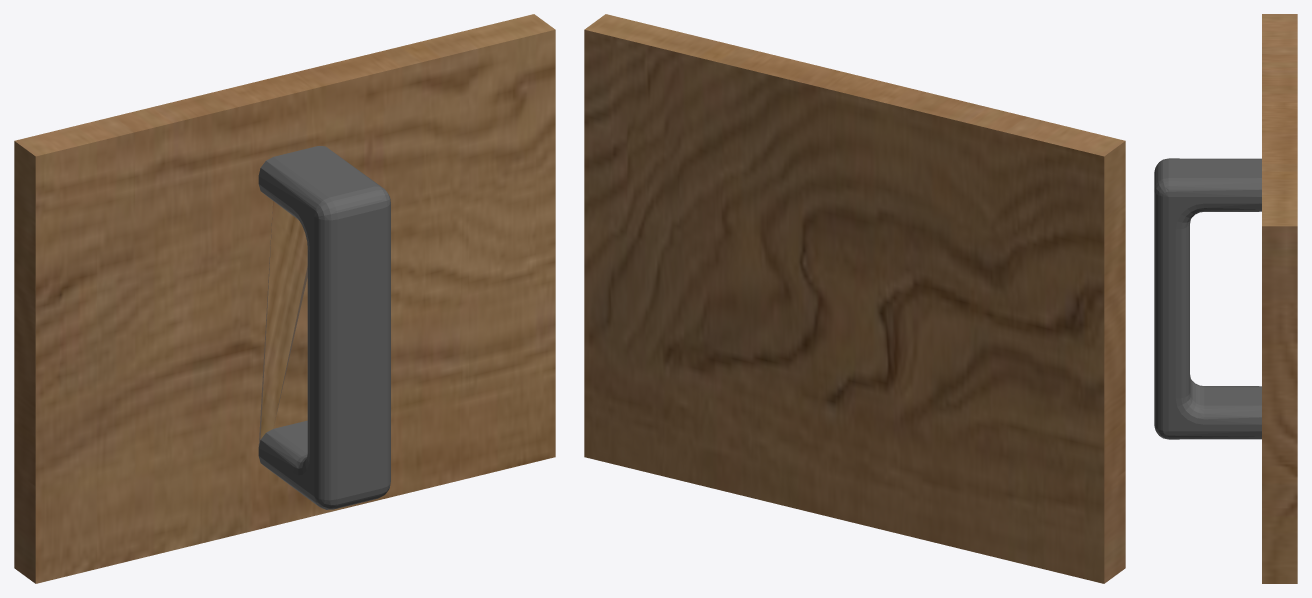
The model's file is slide_link.obj.
The picture shows the model from 3 angles, left to right: view 1: azimuth 30°, elevation 25°; view 2: azimuth 150°, elevation 25°; view 3: azimuth 270°, elevation 25°; orthographic projection. The views are drawn at different scales.
Parts seen in each view (by area): view 1: slide_link; view 2: slide_link; view 3: slide_link.
Part boxes in pixels (x1,y1,x2,y2): slide_link: (14, 14, 555, 583); slide_link: (584, 14, 1125, 583); slide_link: (1154, 14, 1297, 583).
Size of the model in its own units: 0.35 by 0.275 by 0.1.
1 material, 1 textured.
